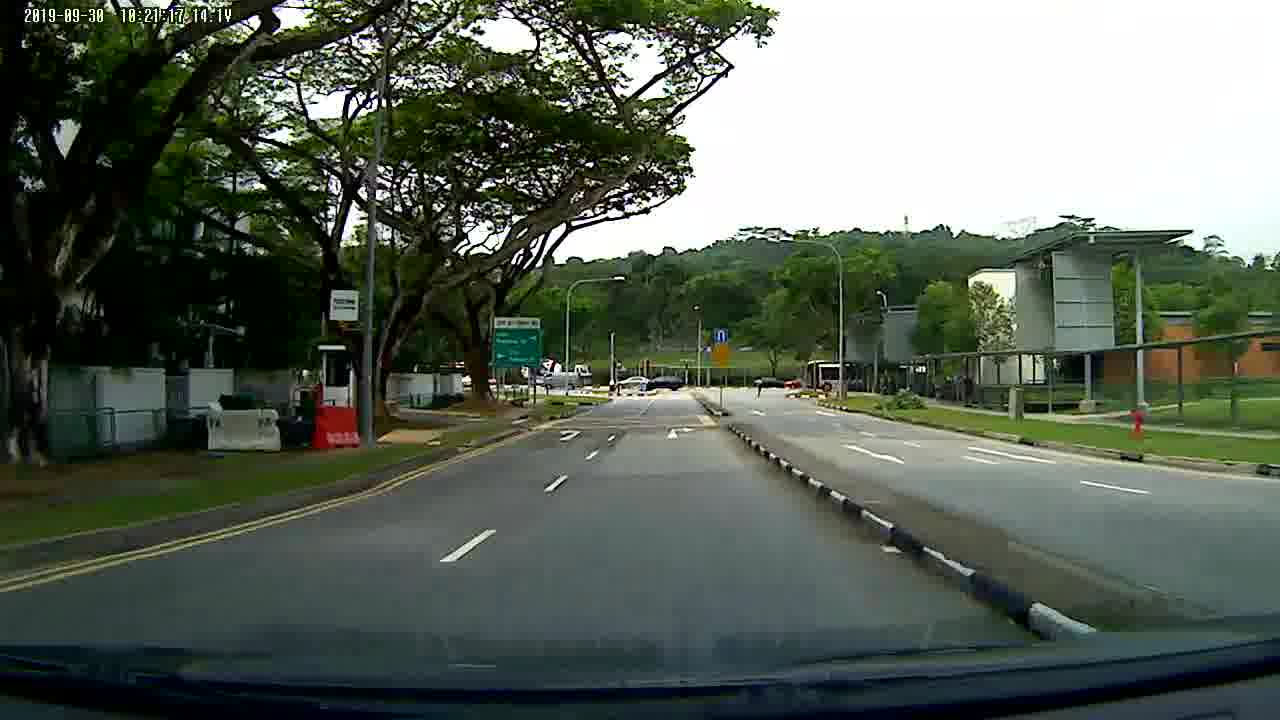car: (614, 377, 651, 388)
